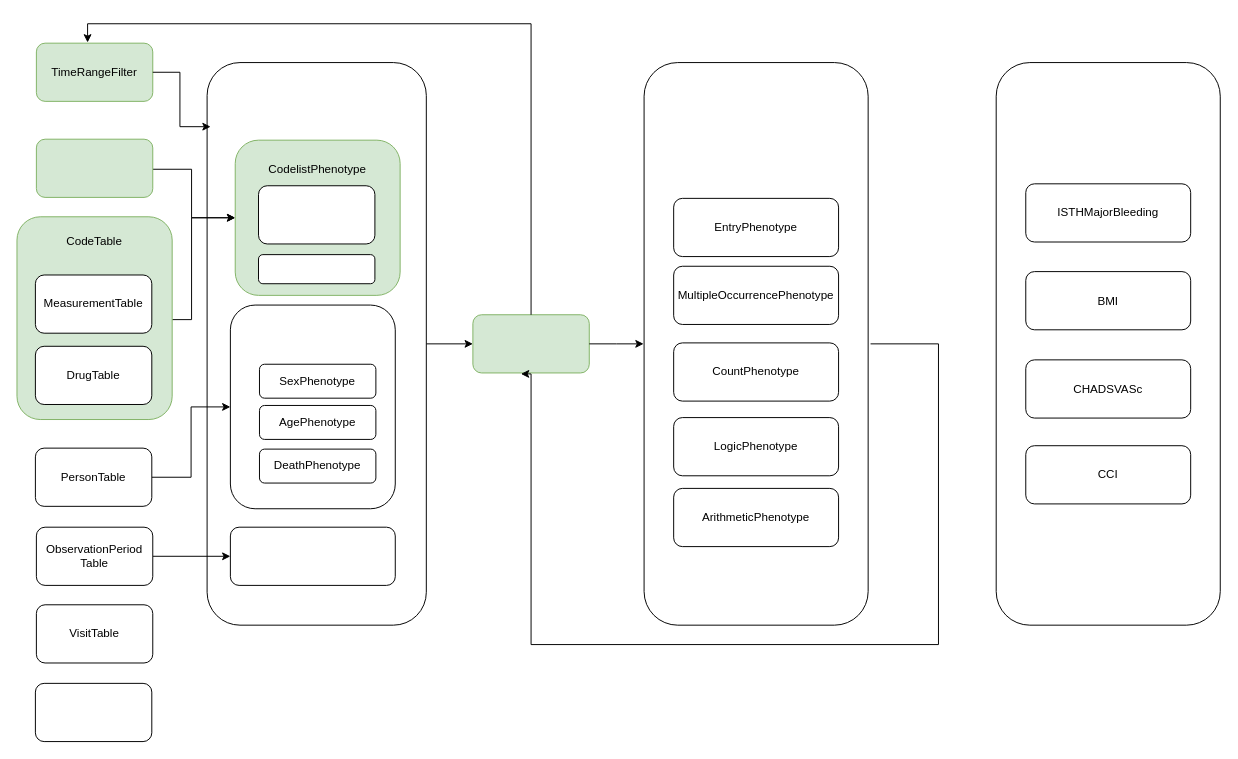
This 1238x759 diagram has some shape labels left out. Here are the shapes that lost their labels. From the top down, the box of each, then its label:
(35, 138, 153, 197): Codelist
(258, 185, 375, 244): Measurement Phenotype
(258, 254, 375, 284): DrugPhenotype
(206, 62, 426, 625): FoundationPhenotype
(472, 314, 589, 373): PhenotypeTable
(643, 62, 868, 625): CompositePhenotypes
(995, 62, 1220, 625): PhenotypeFactories
(229, 304, 395, 509): PersonPhenotype
(229, 526, 395, 585): CoveragePhenotype
(34, 682, 152, 742): CategoricalFilter
